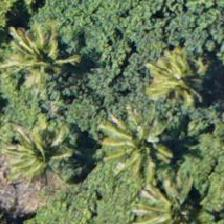coconut_tree: (82, 102, 172, 192), (0, 9, 89, 99), (141, 23, 223, 113), (0, 107, 75, 197), (128, 169, 218, 223)
